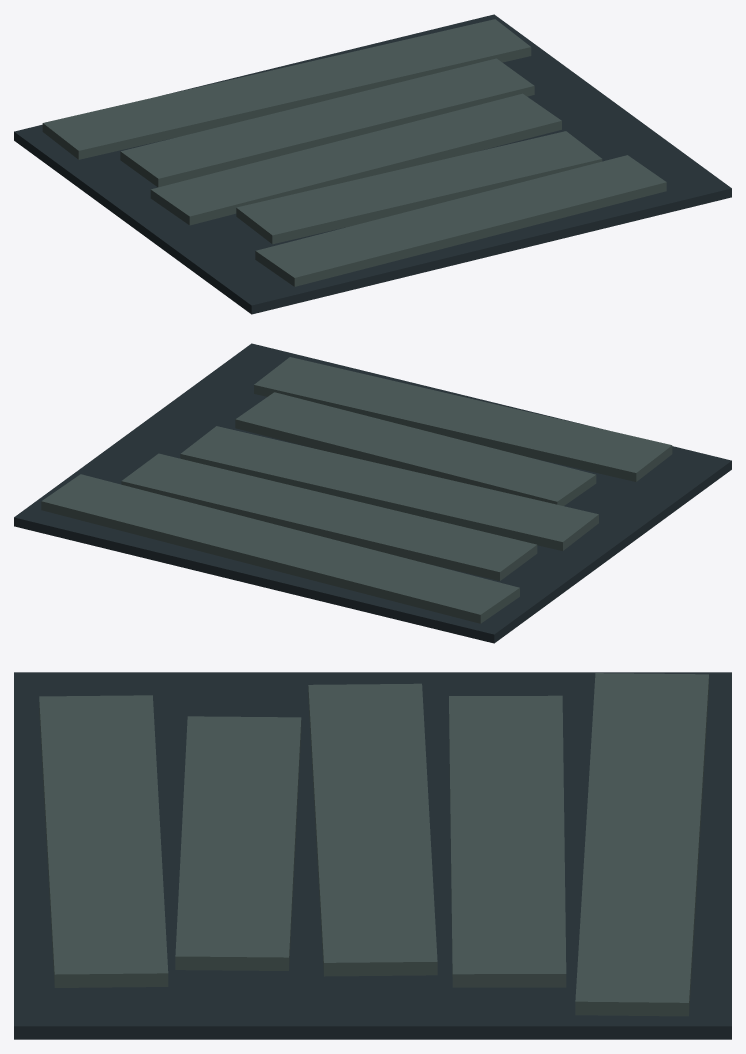
Rendered from env_r14_plank_patch.glb.
The picture shows the model from 3 angles, top to bottom: view 1: azimuth 30°, elevation 25°; view 2: azimuth 150°, elevation 25°; view 3: azimuth 270°, elevation 25°; orthographic projection. The views are drawn at different scales.
Parts seen in each view (by area): view 1: env_r14_plank_patch; view 2: env_r14_plank_patch; view 3: env_r14_plank_patch.
Boxes of the visible parts, bbox=[...] form: env_r14_plank_patch: bbox=[14, 14, 731, 314]; env_r14_plank_patch: bbox=[14, 343, 731, 643]; env_r14_plank_patch: bbox=[14, 672, 731, 1039].
Size of the model in its own units: 2.8 by 0.1 by 2.4.
1 material, 1 textured.
